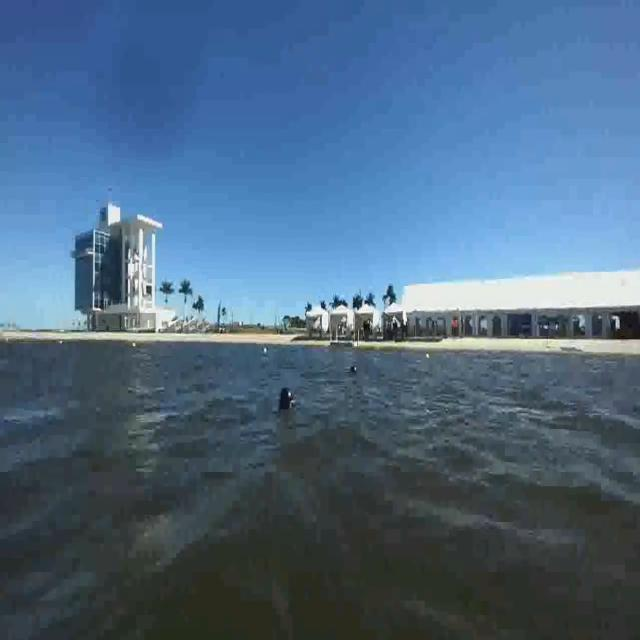black-buoy: (277, 384, 295, 408), (348, 358, 359, 376)
